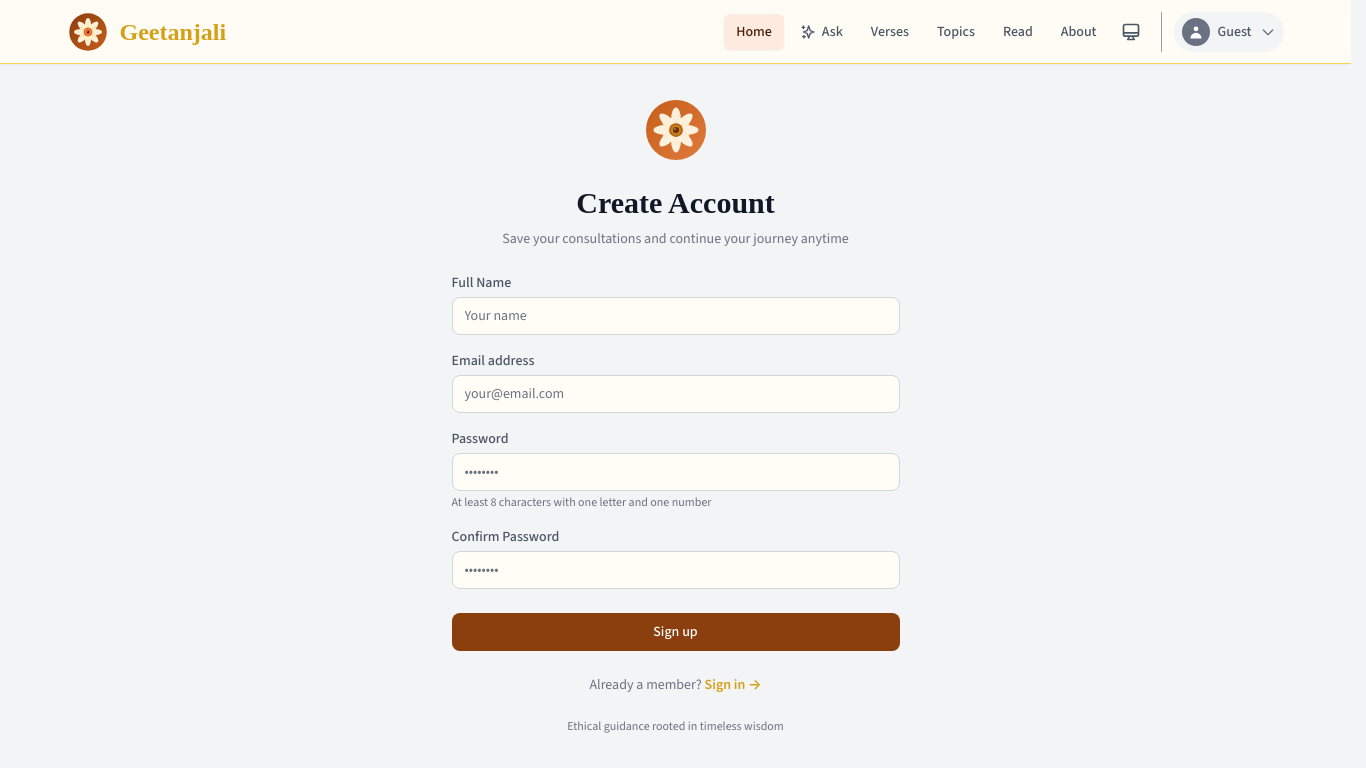
Test: Signup Password Validation › should reject passwords shorter than 8 characters
The width and height of the screenshot is (1366, 768).
Type "John Doe" into the field labelled "Full Name".
click(676, 316); type("John Doe")  # box [452,296,900,334]
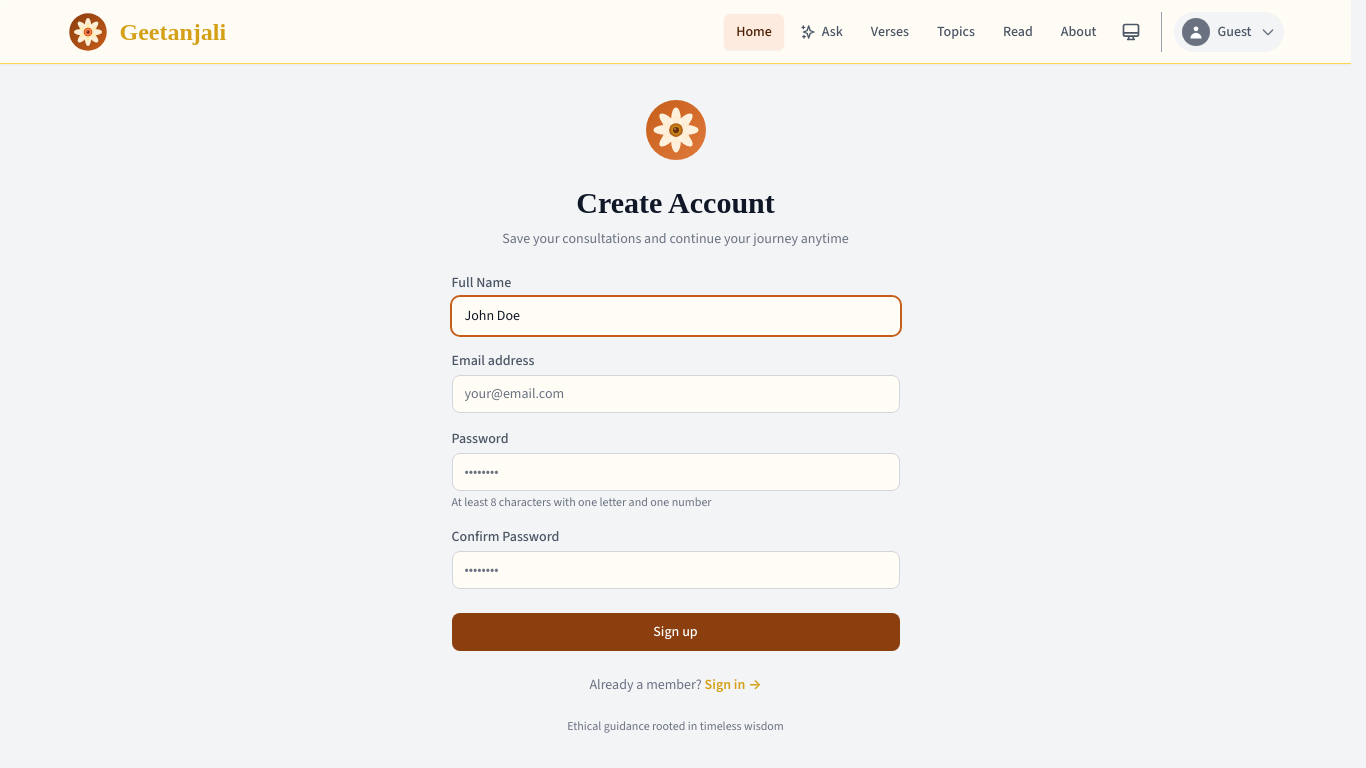
Type "john@example.com" into the field labelled "Email address".
click(676, 394); type("john@example.com")  # box [452,374,900,412]
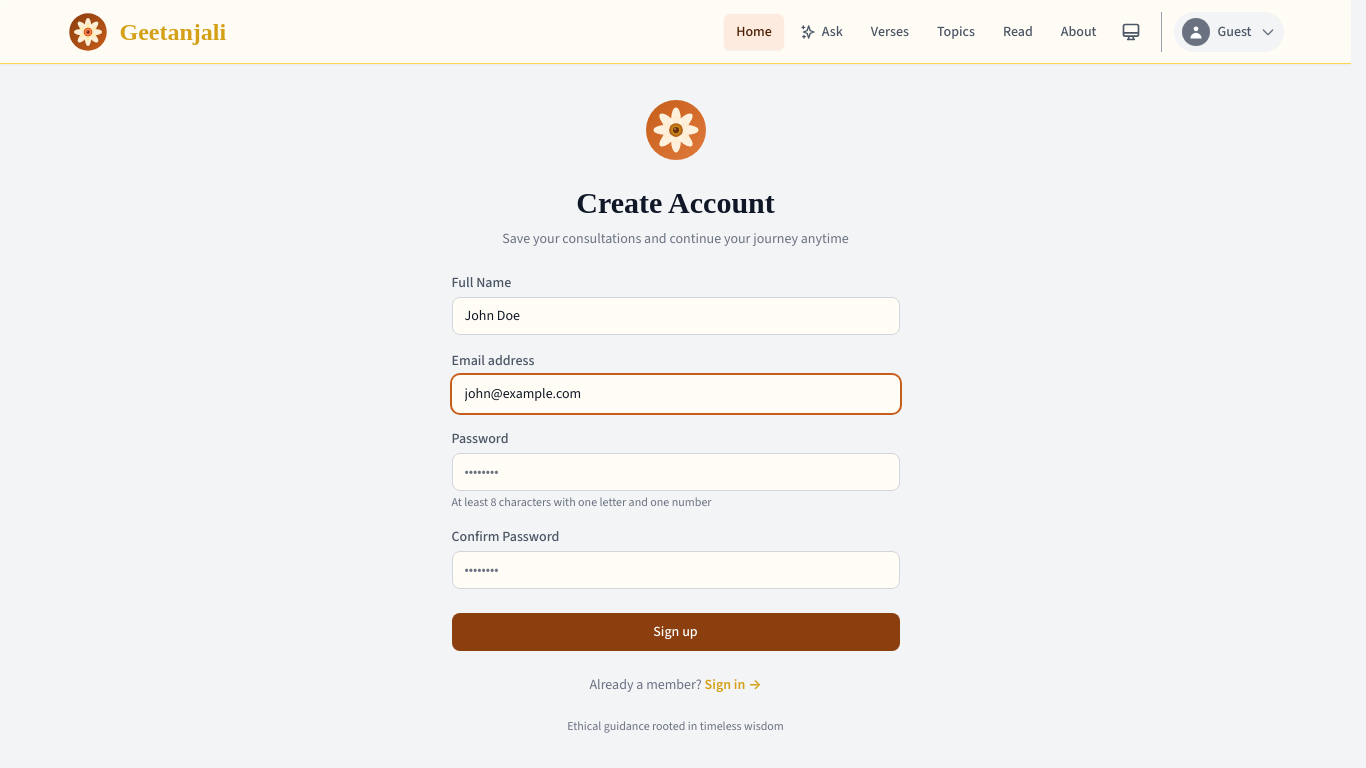
Type "Pass1" into the password field labelled "Password".
click(676, 472); type("Pass1")  # box [452,452,900,490]
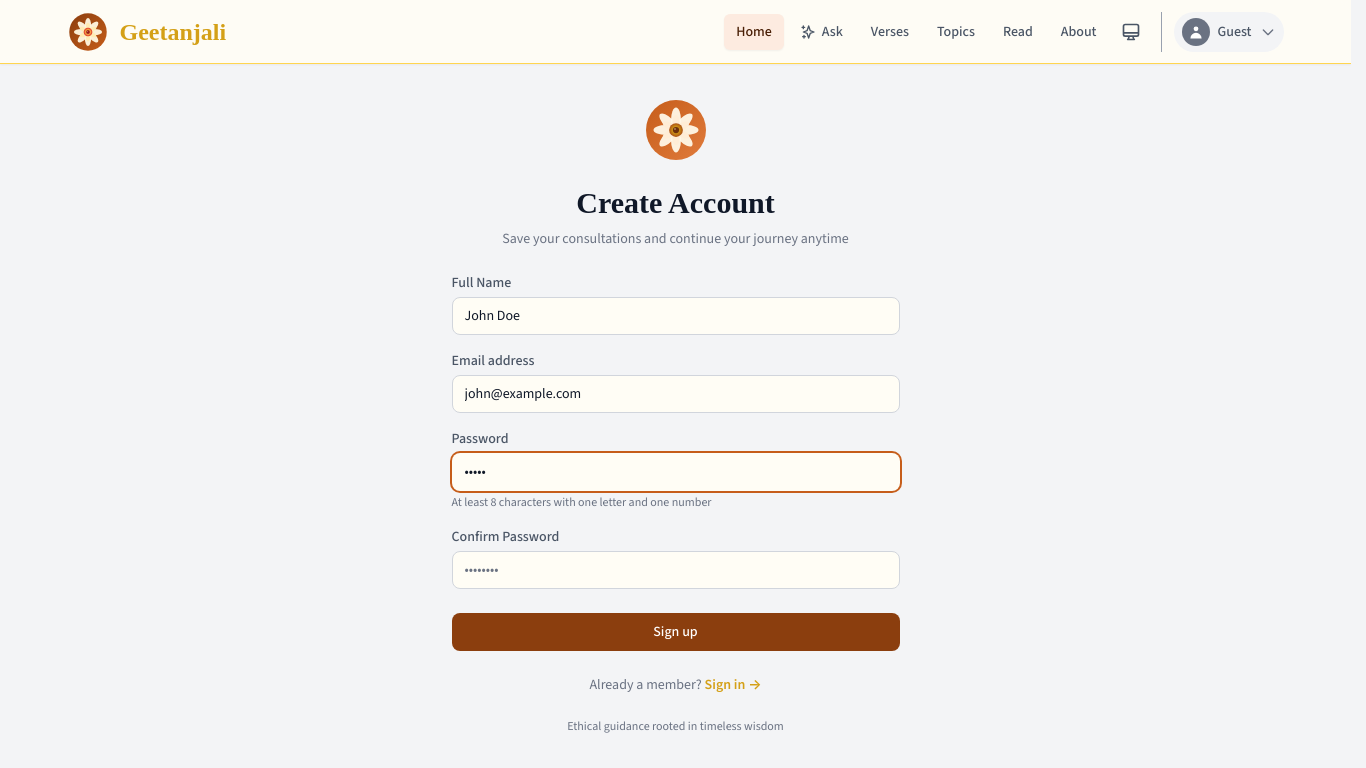
Type "Pass1" into the password field labelled "Confirm Password".
click(676, 570); type("Pass1")  # box [452,550,900,588]
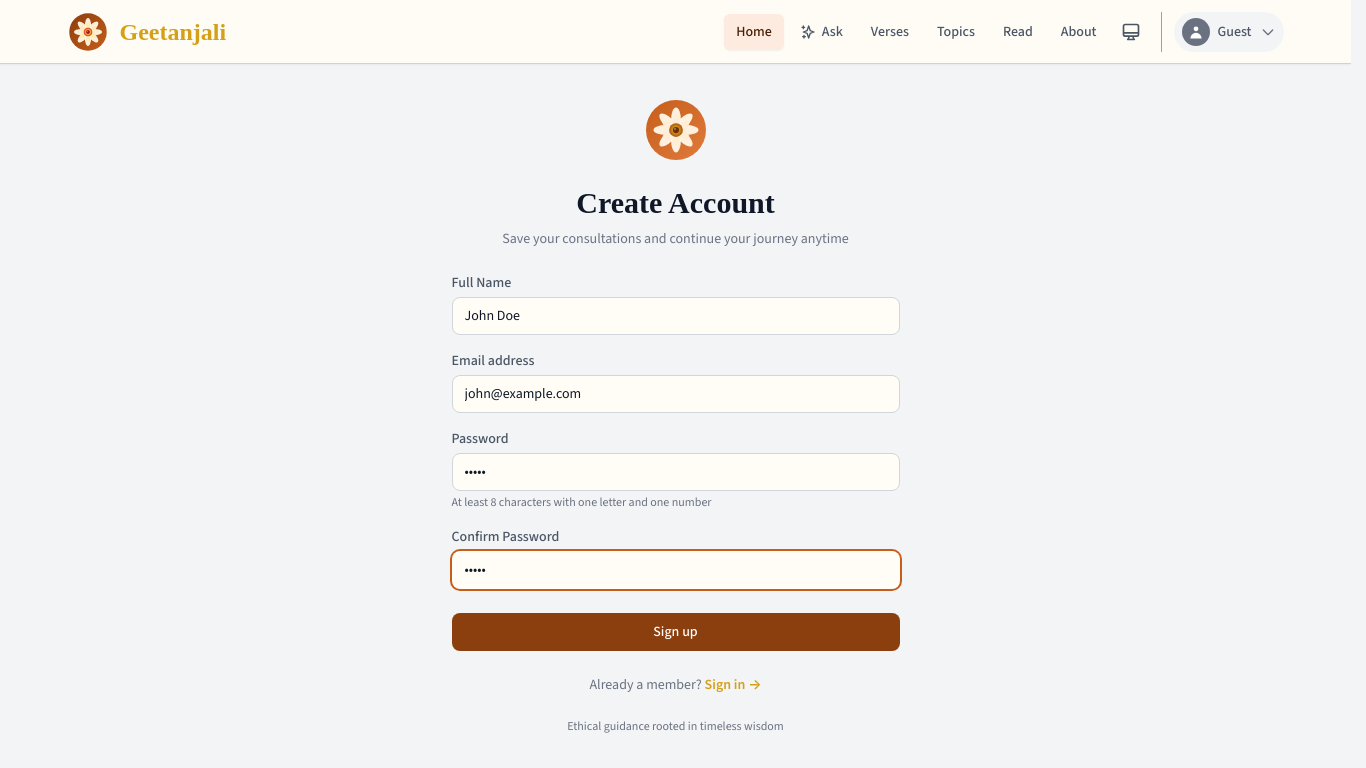
Click the button "Sign up".
click(676, 632)  # box [452,612,900,650]
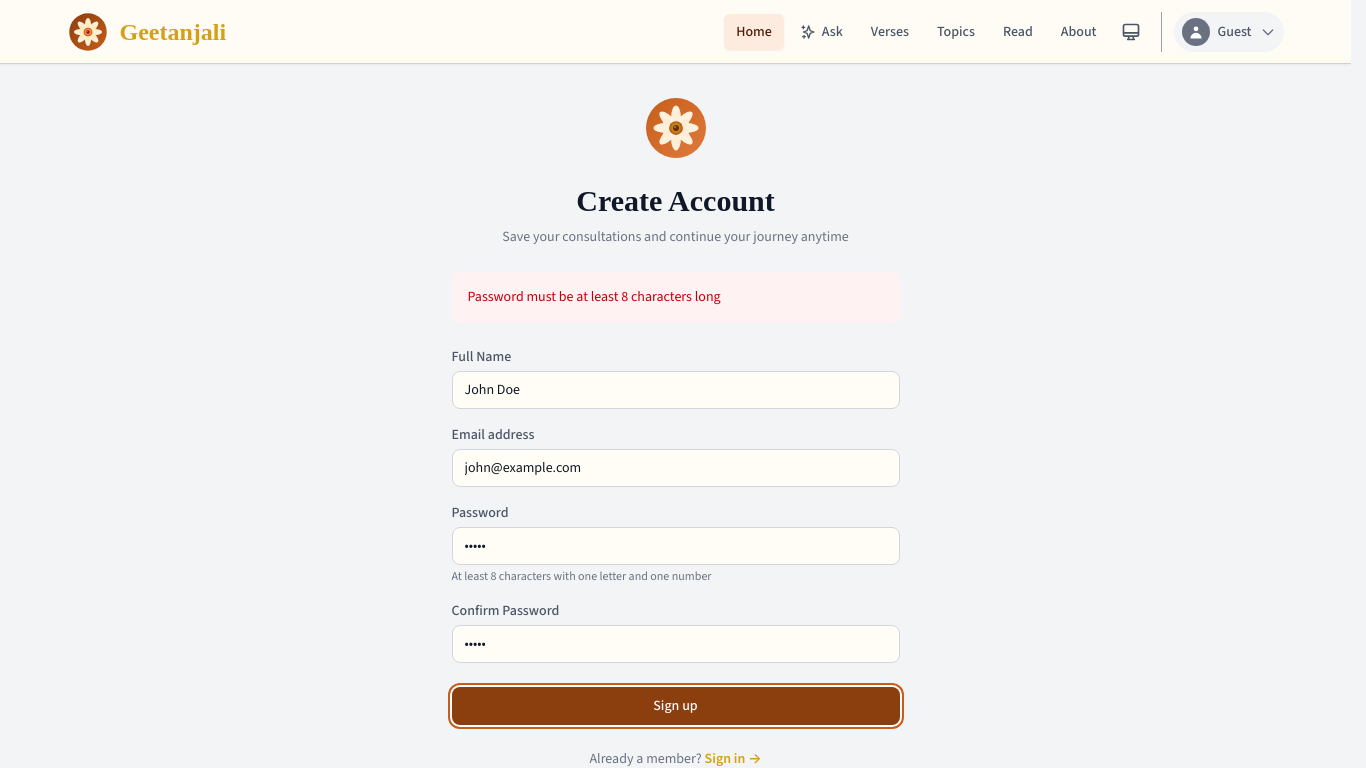
Now the text "Password must be at least 8 characters long" is shown, box [468,287,721,307]
